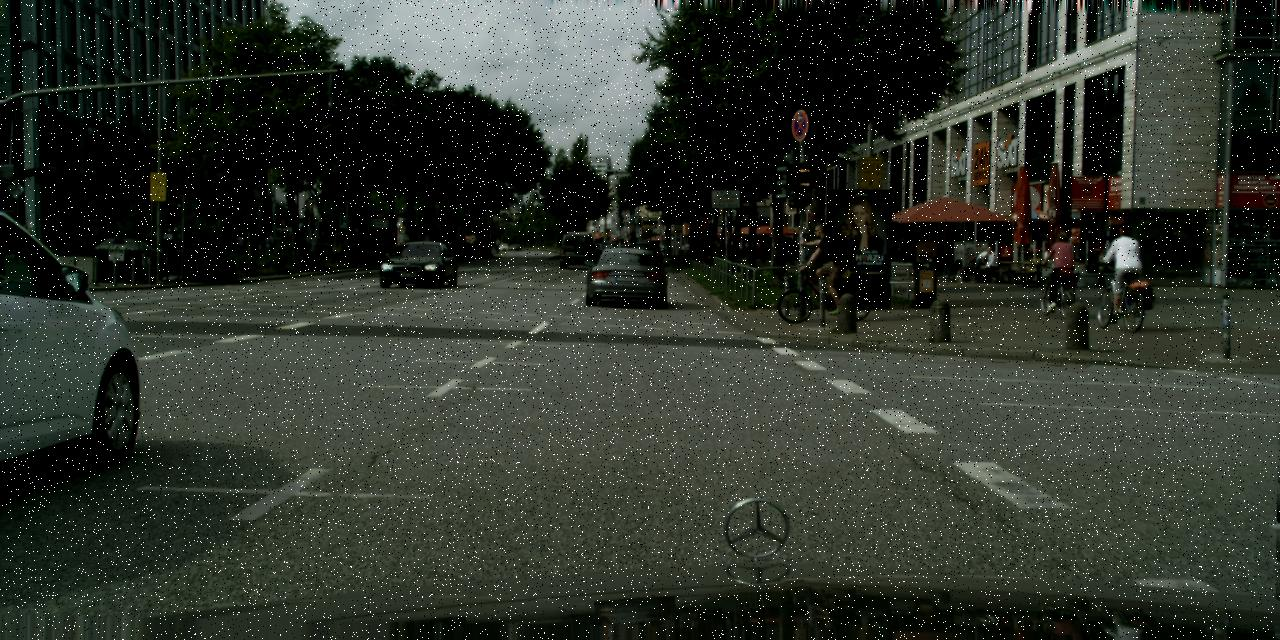ped: (1108, 223, 1142, 306), (810, 224, 840, 300), (1048, 231, 1074, 296), (225, 230, 236, 257), (787, 238, 797, 264), (242, 230, 252, 256), (264, 232, 274, 256), (308, 232, 318, 255), (274, 233, 283, 258), (258, 230, 268, 252), (235, 231, 245, 253), (759, 242, 770, 262), (250, 230, 259, 254), (744, 240, 752, 261), (711, 239, 720, 257), (278, 232, 286, 250), (494, 237, 498, 252), (729, 241, 732, 260), (491, 242, 495, 252)
